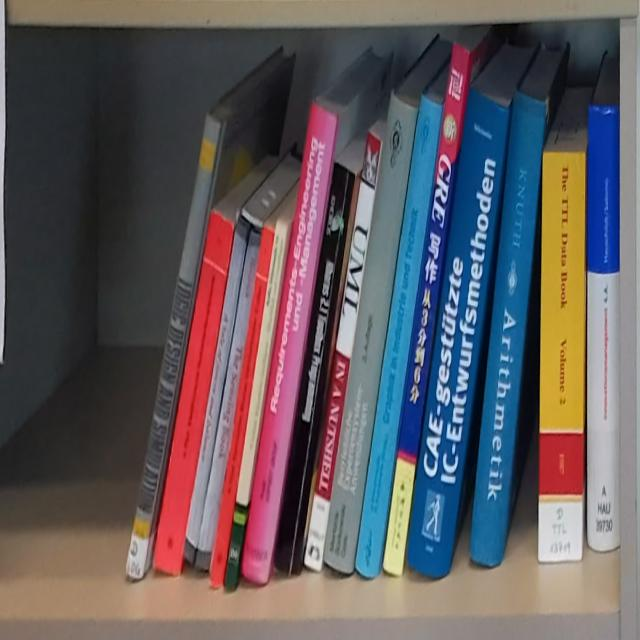Book Spine: (404, 86, 509, 582), (381, 40, 470, 575), (240, 103, 338, 587), (323, 90, 419, 578), (126, 114, 223, 578), (355, 92, 444, 580), (469, 90, 548, 568), (271, 163, 357, 575), (304, 132, 383, 571), (150, 208, 236, 575), (224, 221, 289, 591), (209, 225, 275, 586), (193, 228, 262, 572), (183, 220, 248, 565), (538, 152, 587, 564), (588, 105, 621, 552)
